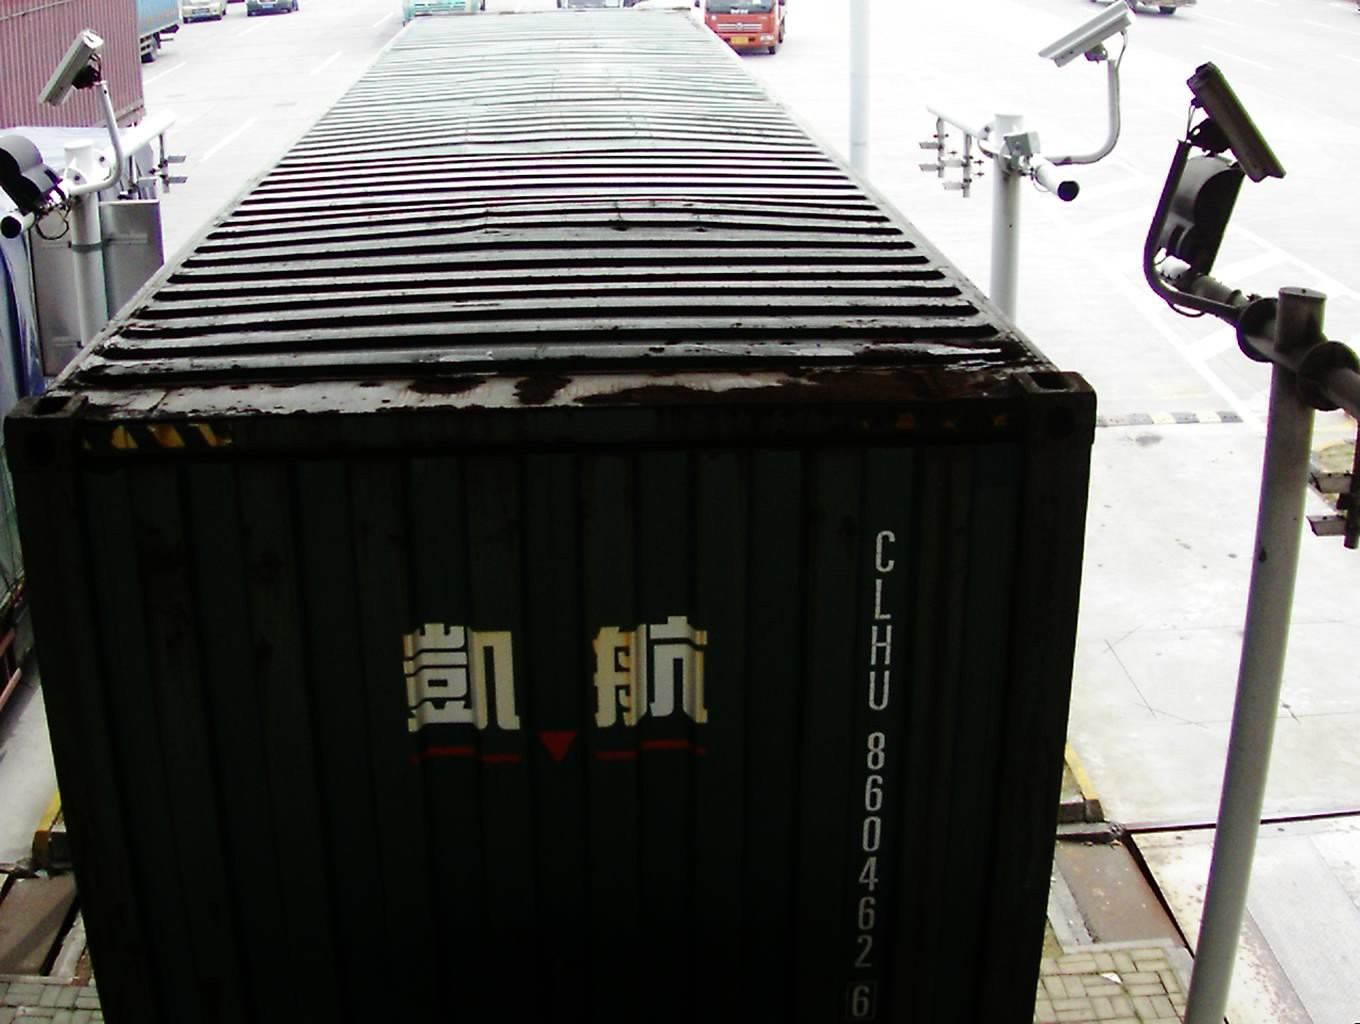words: (842, 508, 903, 1024)
